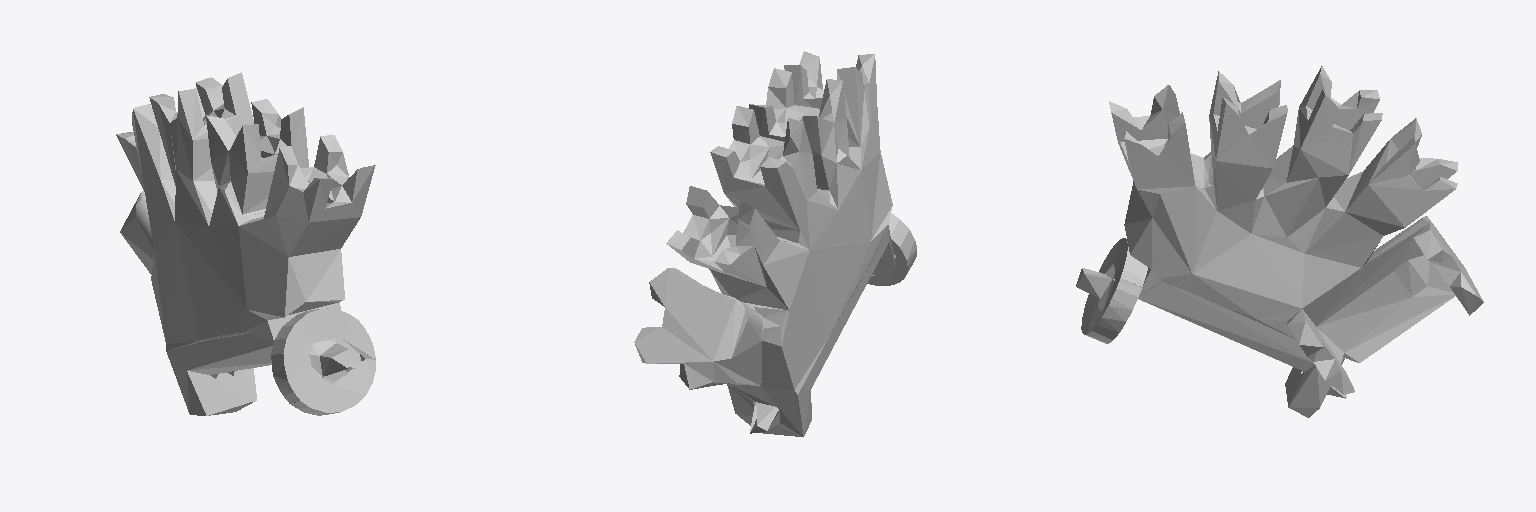
Rendered from right_collision_palm_mesh_mesh.obj.
3 renders of one model, left to right at view 1: azimuth 30°, elevation 25°; view 2: azimuth 150°, elevation 25°; view 3: azimuth 270°, elevation 25°, orthographic.
Bounding box in the file's own units: 0.0348 × 0.0893 × 0.1001.